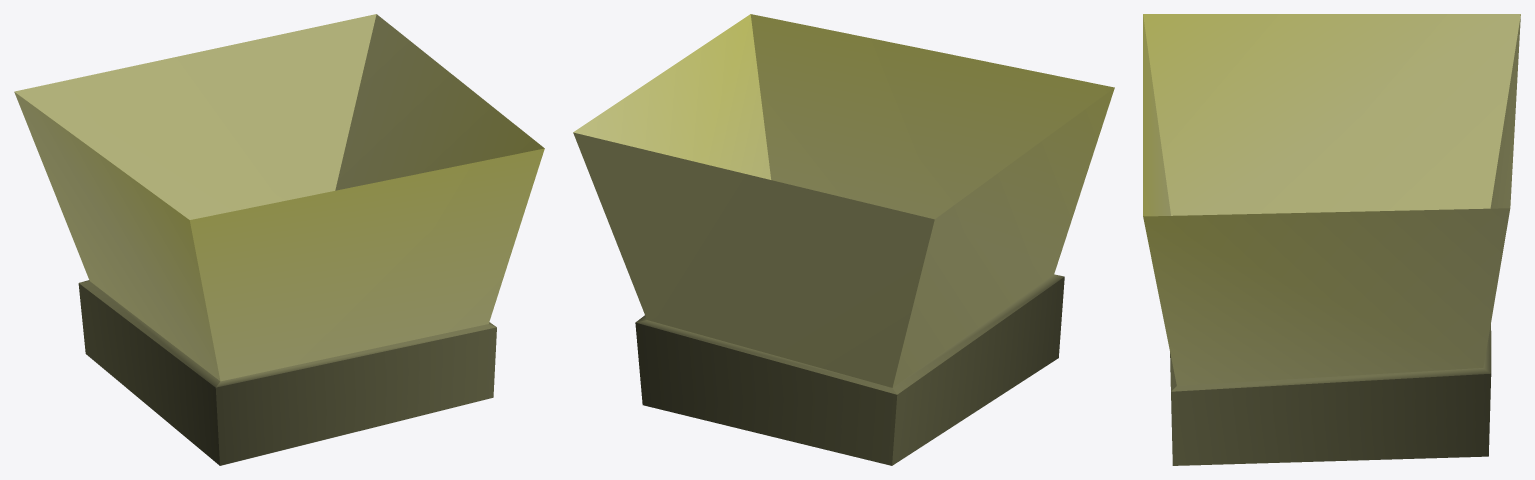
The model's file is c_house_body_square_aa.fbx.
3 views of the same model, side by side, from view 1: azimuth 30°, elevation 25°; view 2: azimuth 150°, elevation 25°; view 3: azimuth 270°, elevation 25° (orthographic). The views are drawn at different scales.
Visible parts, largest first — view 1: c_house_body_square_aa; view 2: c_house_body_square_aa; view 3: c_house_body_square_aa.
Part boxes in pixels (x1=…): c_house_body_square_aa: x1=14, y1=14, x2=544, y2=465; c_house_body_square_aa: x1=573, y1=14, x2=1114, y2=465; c_house_body_square_aa: x1=1143, y1=14, x2=1520, y2=465.
Size of the model in its own units: 6.01 by 4.26 by 5.11.
